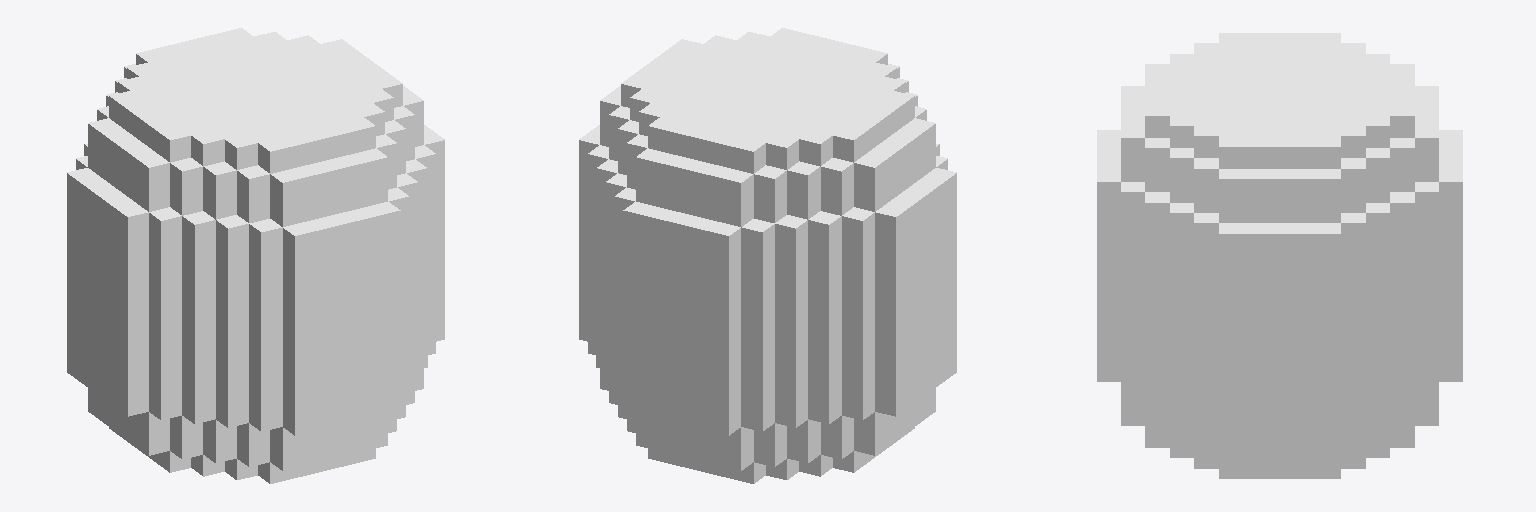
The model's file is Tunna.obj.
3 renders of one model, left to right at view 1: azimuth 30°, elevation 25°; view 2: azimuth 150°, elevation 25°; view 3: azimuth 270°, elevation 25°, orthographic.
Parts seen in each view (by area): view 1: object 1; view 2: object 1; view 3: object 1.
Part boxes in pixels (x1,y1,x2,y2): object 1: (67,28,444,483); object 1: (579,28,956,483); object 1: (1097,33,1462,478).
Size of the model in its own units: 1.5 by 1.5 by 1.5.